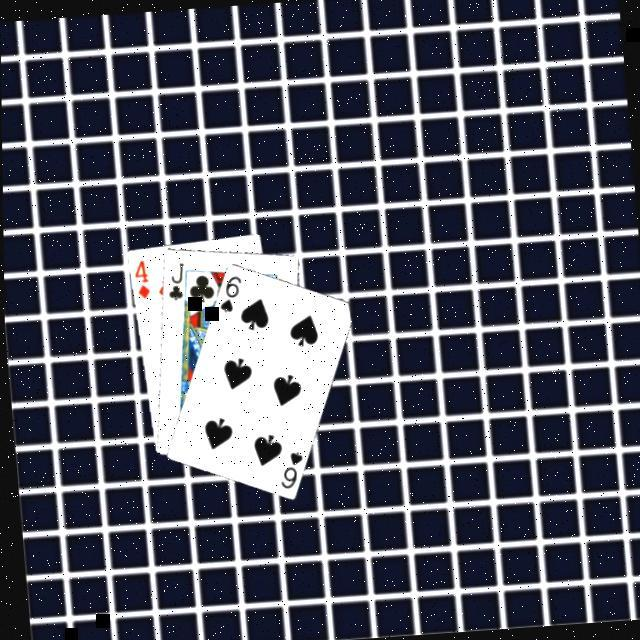4D: (128, 255, 150, 300)
6S: (212, 270, 246, 314), (272, 446, 305, 491)
JC: (160, 258, 188, 302)
